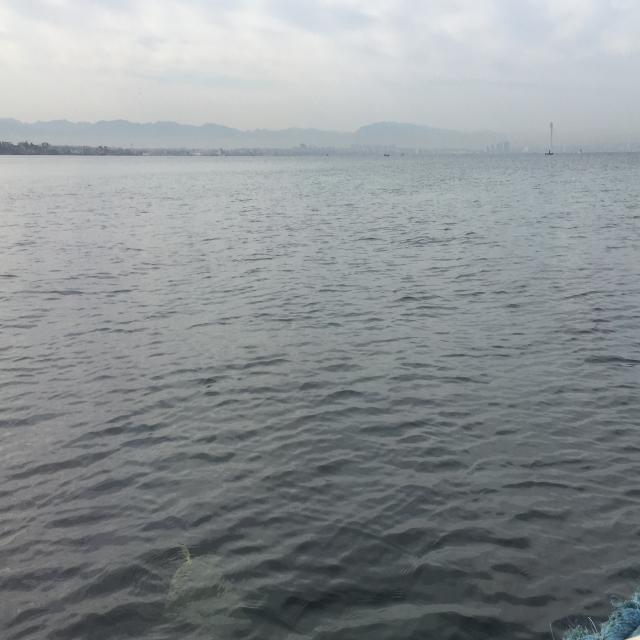Plastic bag: (154, 534, 255, 636)
